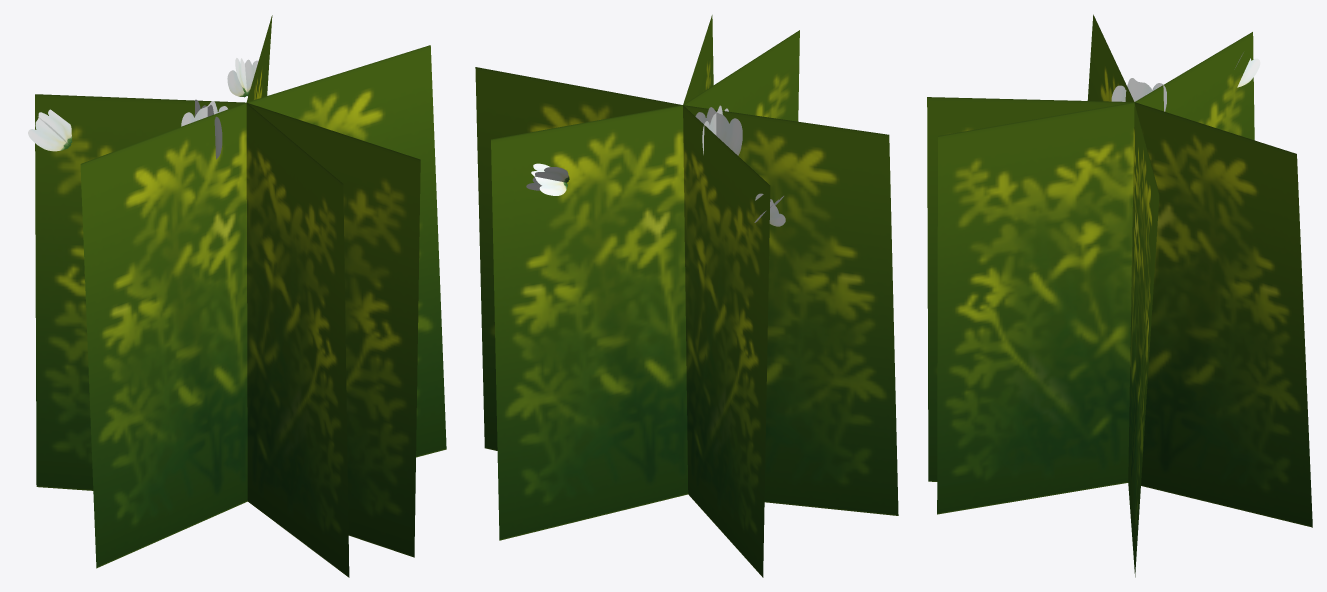
Rendered from grass_01.fbx.
3 renders of one model, left to right at view 1: azimuth 30°, elevation 25°; view 2: azimuth 150°, elevation 25°; view 3: azimuth 270°, elevation 25°, orthographic. The views are drawn at different scales.
Parts seen in each view (by area): view 1: polySurface123; view 2: polySurface123; view 3: polySurface123.
Part boxes in pixels (x1=…): polySurface123: x1=28, y1=15, x2=446, y2=577; polySurface123: x1=475, y1=15, x2=898, y2=577; polySurface123: x1=927, y1=14, x2=1312, y2=577.
Size of the model in its own units: 1.21 by 1.23 by 1.08.
